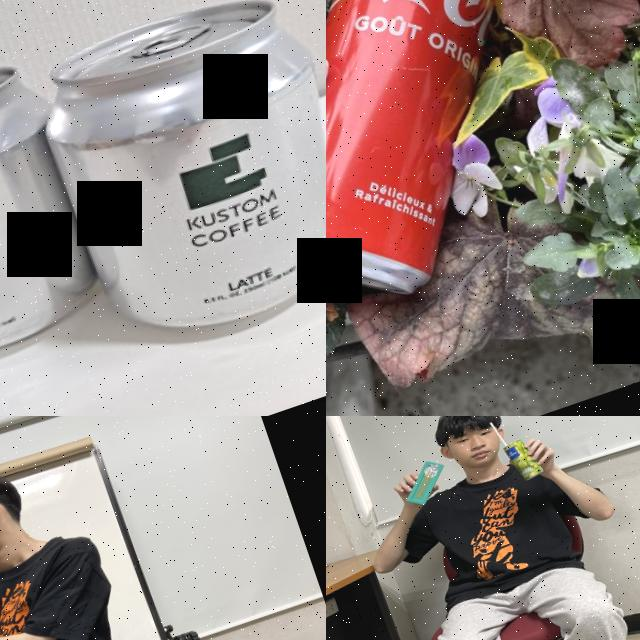can: (25, 0, 326, 372), (326, 0, 599, 336), (0, 47, 118, 391), (501, 434, 546, 484)
